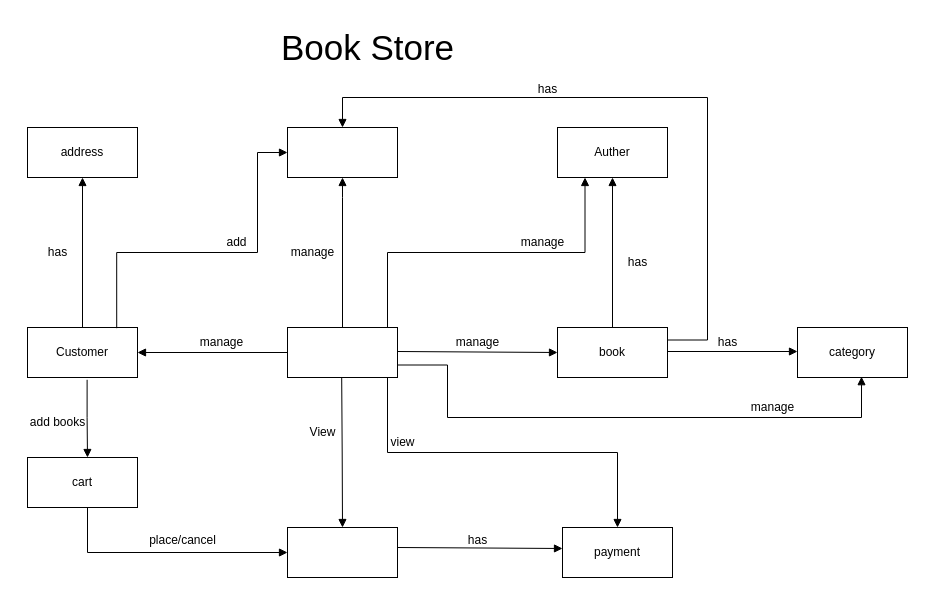
Image size: 925x595. Some labels were removed from this diagram. The shapes that lost their labels are listed below. From the top down, each one's centre as x and y in pixels, then its label:
the point at 342,152: review
the point at 342,352: Admin
the point at 342,552: order
